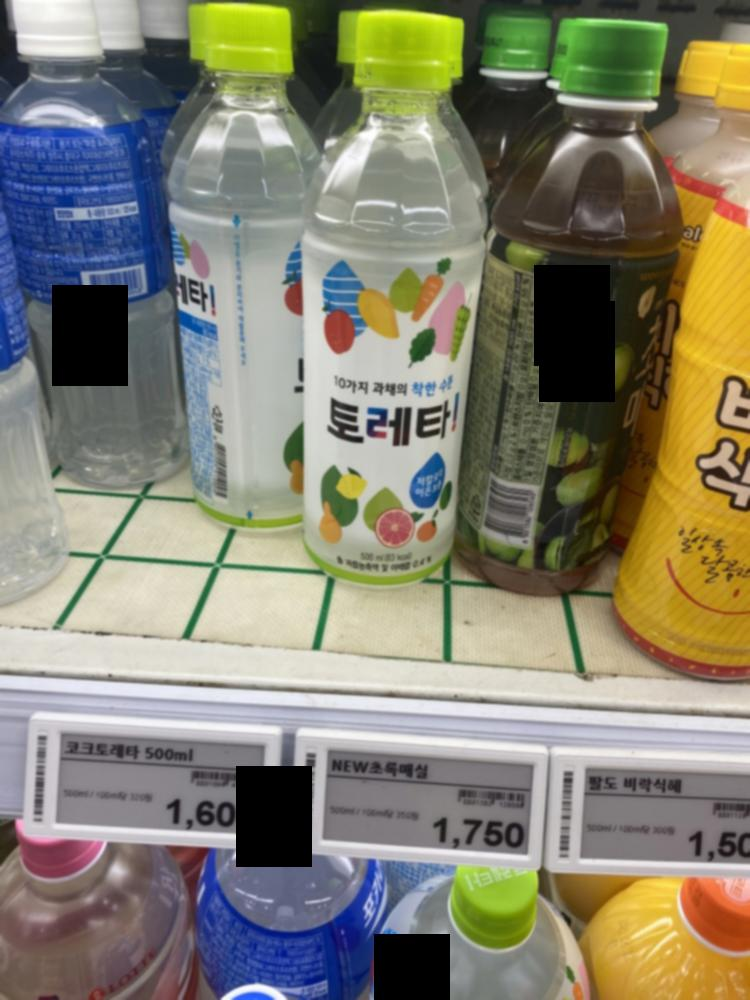toreta: (323, 18, 451, 588)
